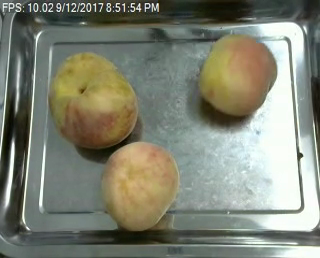Peach: (47, 49, 138, 151), (101, 141, 180, 231), (198, 33, 277, 116)
